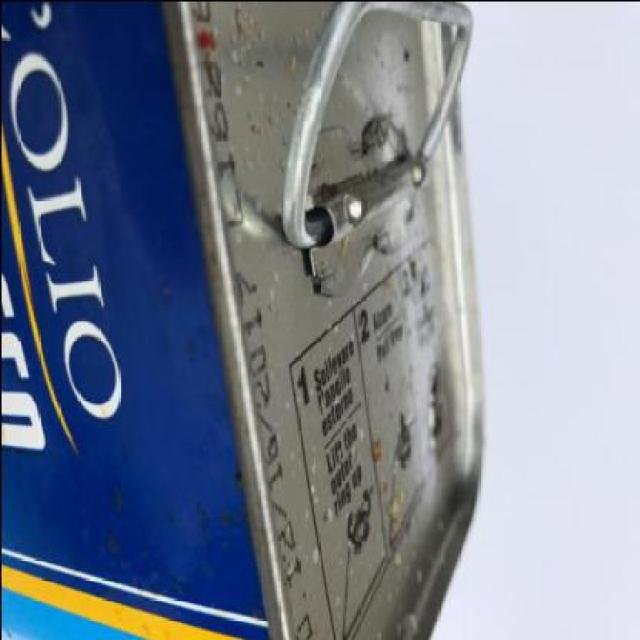METAL: (2, 1, 486, 638)
